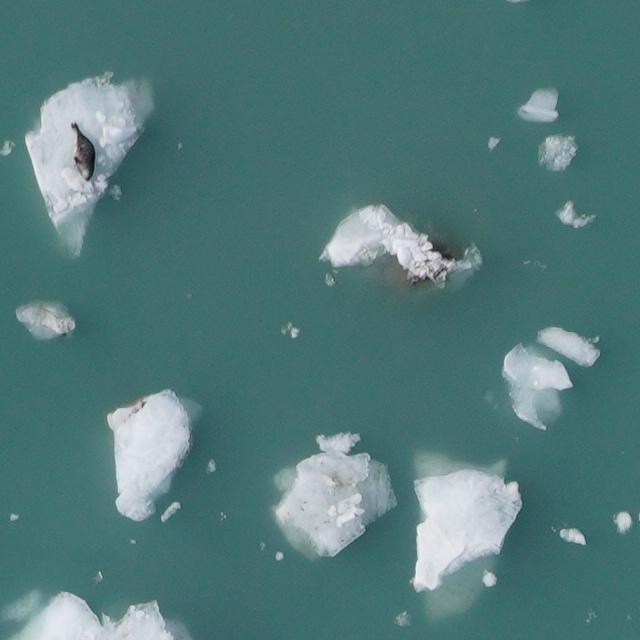seal: (69, 120, 98, 185)
